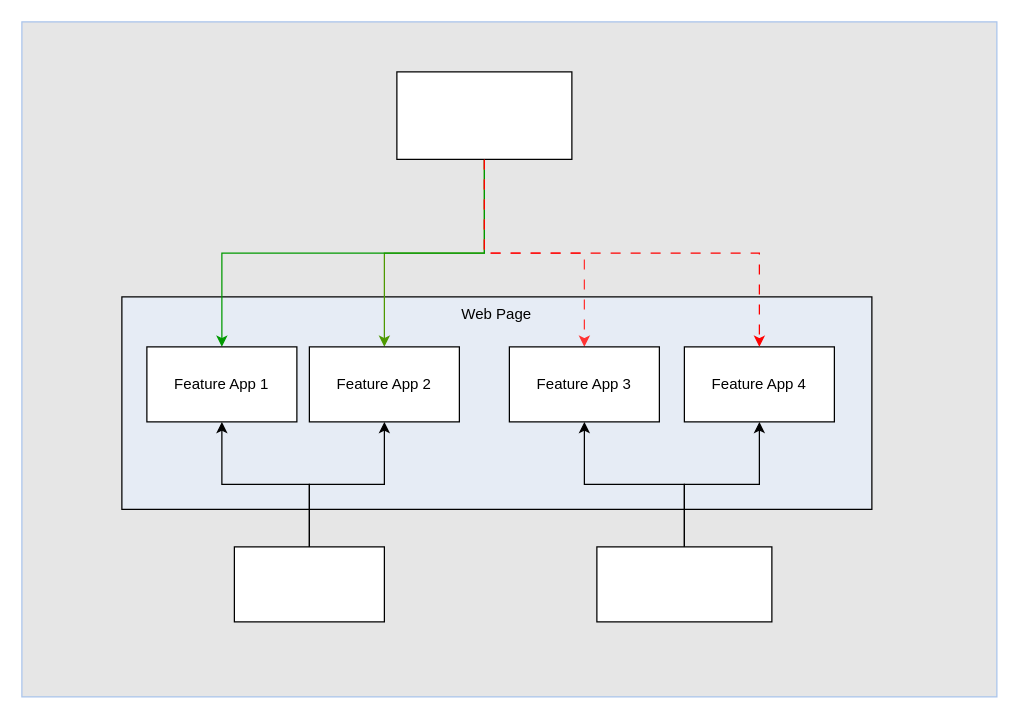
This 1019x719 diagram has some shape labels left out. Each missing label, with the centre of its shape:
"Craweler" belongs at point 484,115.
"JavaScript Client side Rendering" belongs at point 684,584.
"Server Side Rendering" belongs at point 308,584.
